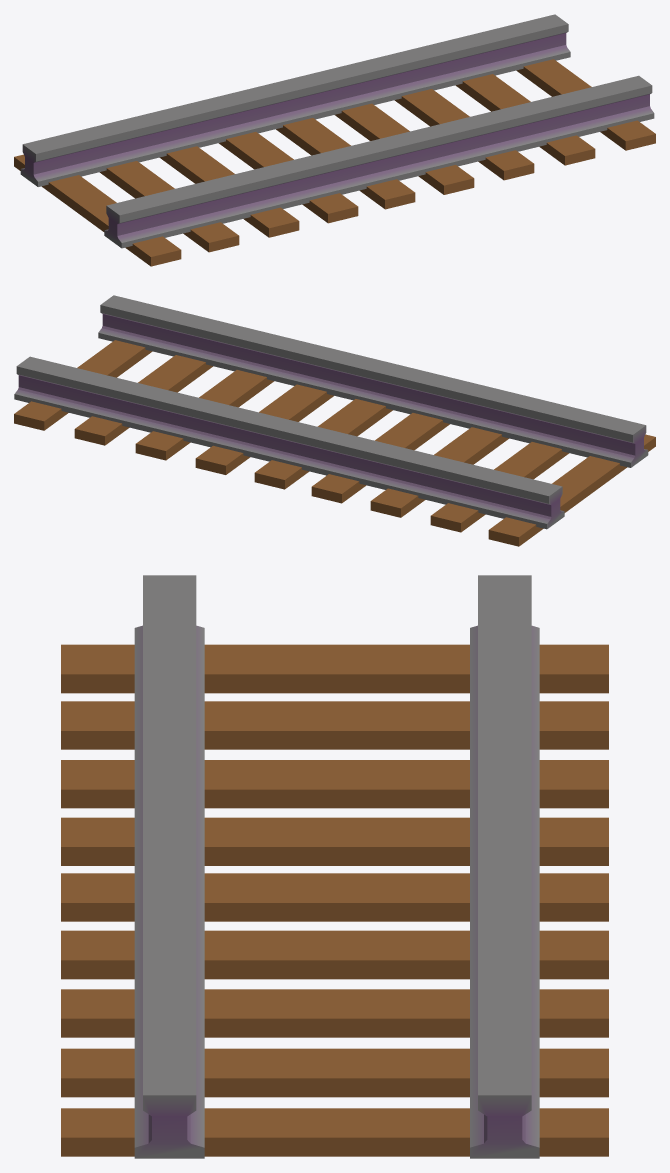
3 views of the same model, one above another, from view 1: azimuth 30°, elevation 25°; view 2: azimuth 150°, elevation 25°; view 3: azimuth 270°, elevation 25° (orthographic). The views are drawn at different scales.
Visible parts, largest first — view 1: steel_rail, steel_rail.001, timber, timber.001, timber.007, timber.006, timber.005, timber.002, timber.004, timber.003, timber.008; view 2: steel_rail.001, steel_rail, timber, timber.003, timber.005, timber.001, timber.007, timber.002, timber.006, timber.004, timber.008; view 3: steel_rail, steel_rail.001, timber, timber.005, timber.007, timber.001, timber.004, timber.006, timber.008, timber.002, timber.003.
Part boxes in pixels (left/top/right/bottom): steel_rail: left=104, top=75, right=654, bottom=248; steel_rail.001: left=20, top=14, right=570, bottom=186; timber: left=14, top=154, right=181, bottom=266; timber.001: left=99, top=161, right=239, bottom=252; timber.007: left=455, top=74, right=595, bottom=165; timber.006: left=394, top=89, right=534, bottom=180; timber.005: left=335, top=103, right=474, bottom=194; timber.002: left=159, top=146, right=299, bottom=237; timber.004: left=276, top=118, right=415, bottom=209; timber.003: left=219, top=132, right=358, bottom=223; timber.008: left=516, top=59, right=655, bottom=150; steel_rail.001: left=14, top=356, right=564, bottom=529; steel_rail: left=98, top=295, right=648, bottom=467; timber: left=488, top=434, right=655, bottom=546; timber.003: left=311, top=413, right=449, bottom=503; timber.005: left=195, top=384, right=333, bottom=474; timber.001: left=430, top=442, right=569, bottom=532; timber.007: left=74, top=355, right=212, bottom=445; timber.002: left=370, top=427, right=508, bottom=517; timber.006: left=135, top=370, right=273, bottom=460; timber.004: left=254, top=399, right=392, bottom=489; timber.008: left=14, top=340, right=152, bottom=430; steel_rail: left=134, top=575, right=204, bottom=1158; steel_rail.001: left=470, top=575, right=539, bottom=1158; timber: left=61, top=644, right=608, bottom=693; timber.005: left=61, top=930, right=608, bottom=979; timber.007: left=61, top=1048, right=608, bottom=1097; timber.001: left=61, top=701, right=608, bottom=749; timber.004: left=61, top=873, right=608, bottom=921; timber.006: left=61, top=989, right=608, bottom=1037; timber.008: left=61, top=1108, right=608, bottom=1156; timber.002: left=61, top=760, right=608, bottom=808; timber.003: left=61, top=817, right=608, bottom=865.
Size of the model in its own units: 3 by 0.209 by 1.33.
